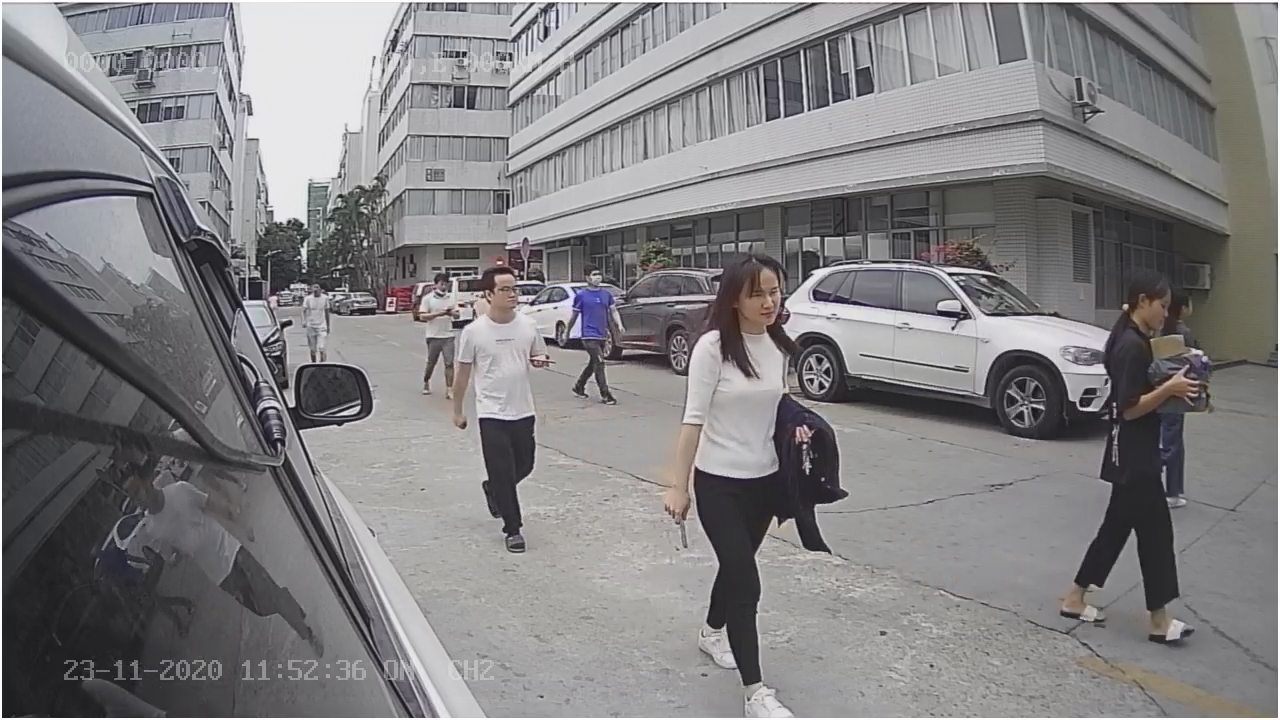person: (668, 261, 807, 695), (1092, 268, 1182, 629), (451, 259, 541, 542)
